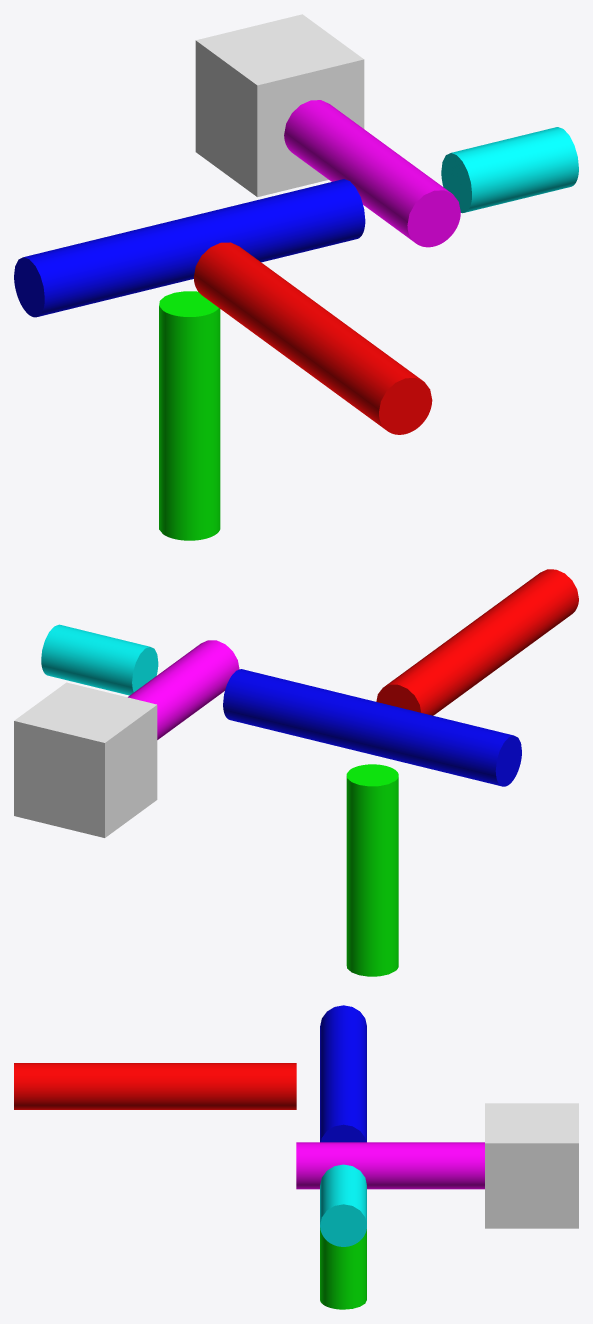
The model's file is serial_test_example_fn_std-sketch-extrude7_output.glb.
3 views of the same model, one above another, from view 1: azimuth 30°, elevation 25°; view 2: azimuth 150°, elevation 25°; view 3: azimuth 270°, elevation 25° (orthographic). The views are drawn at different scales.
Size of the model in its own units: 0.005 by 0.003 by 0.006.
